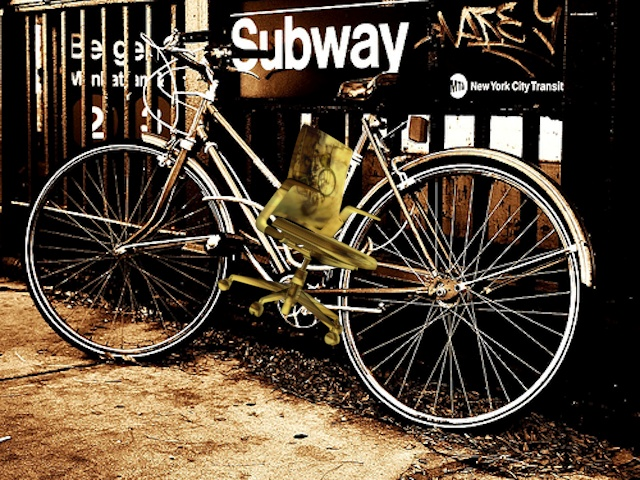desk_chair: (208, 113, 385, 353)
